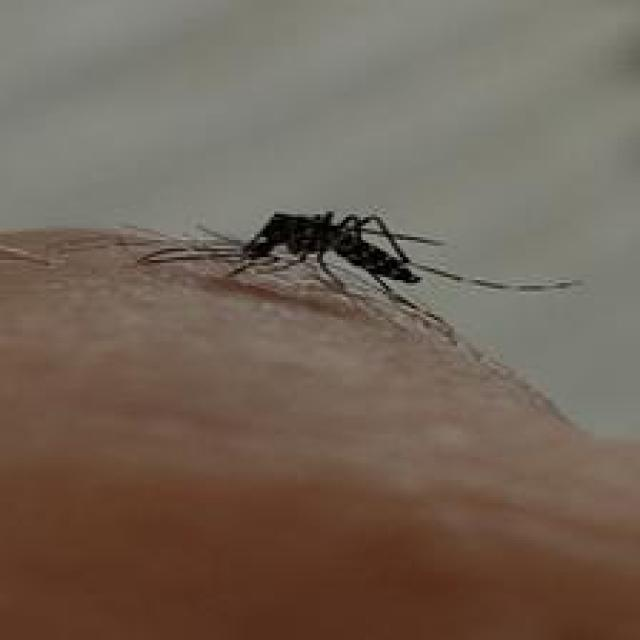Aedes albopictus: (130, 207, 581, 347)
